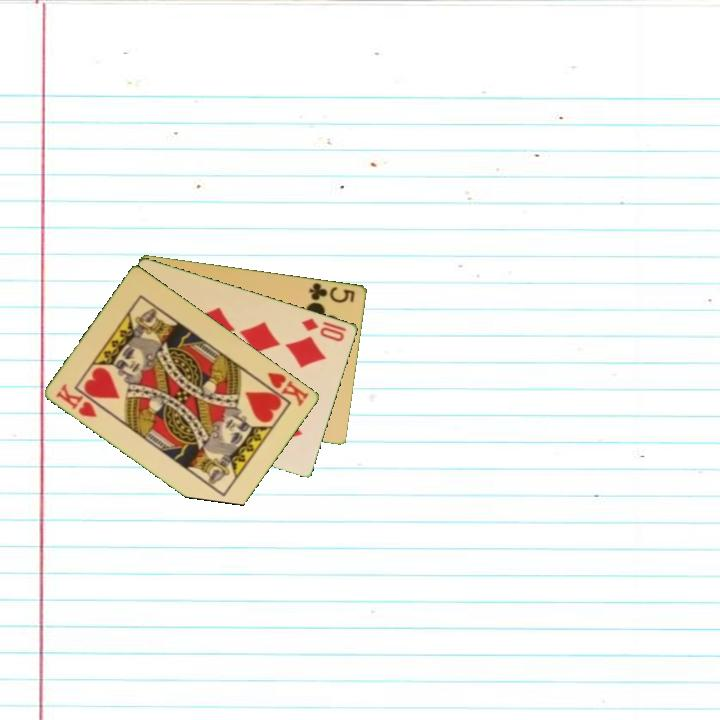10d: (299, 314, 347, 344)
5c: (306, 279, 358, 305)
Kh: (256, 368, 312, 409), (53, 380, 100, 420)
